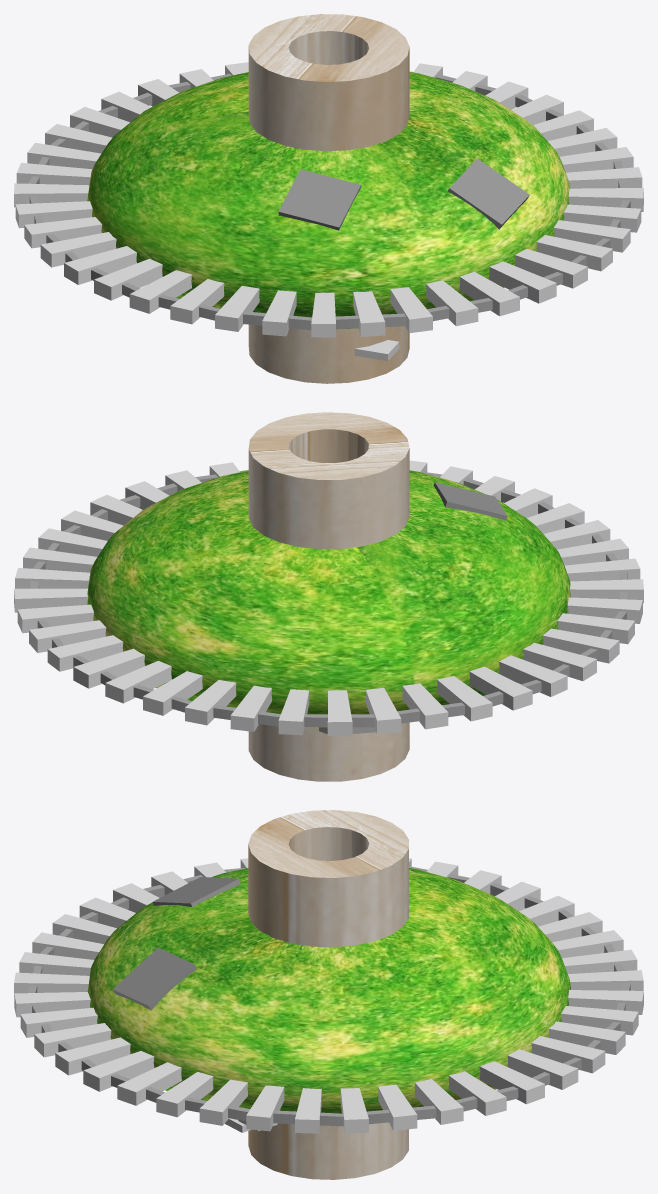
File: firstStageModel.fbx
3 renders of one model, top to bottom at view 1: azimuth 30°, elevation 25°; view 2: azimuth 150°, elevation 25°; view 3: azimuth 270°, elevation 25°, orthographic.
Visible parts, largest first — view 1: pasted__pCube1; view 2: pasted__pCube1; view 3: pasted__pCube1.
Part boxes in pixels (left/top/right/bottom): pasted__pCube1: left=14, top=14, right=643, bottom=383; pasted__pCube1: left=14, top=412, right=643, bottom=781; pasted__pCube1: left=14, top=810, right=643, bottom=1179.
Size of the model in its own units: 25.38 by 13.42 by 25.38.
6 materials, 2 textured.
